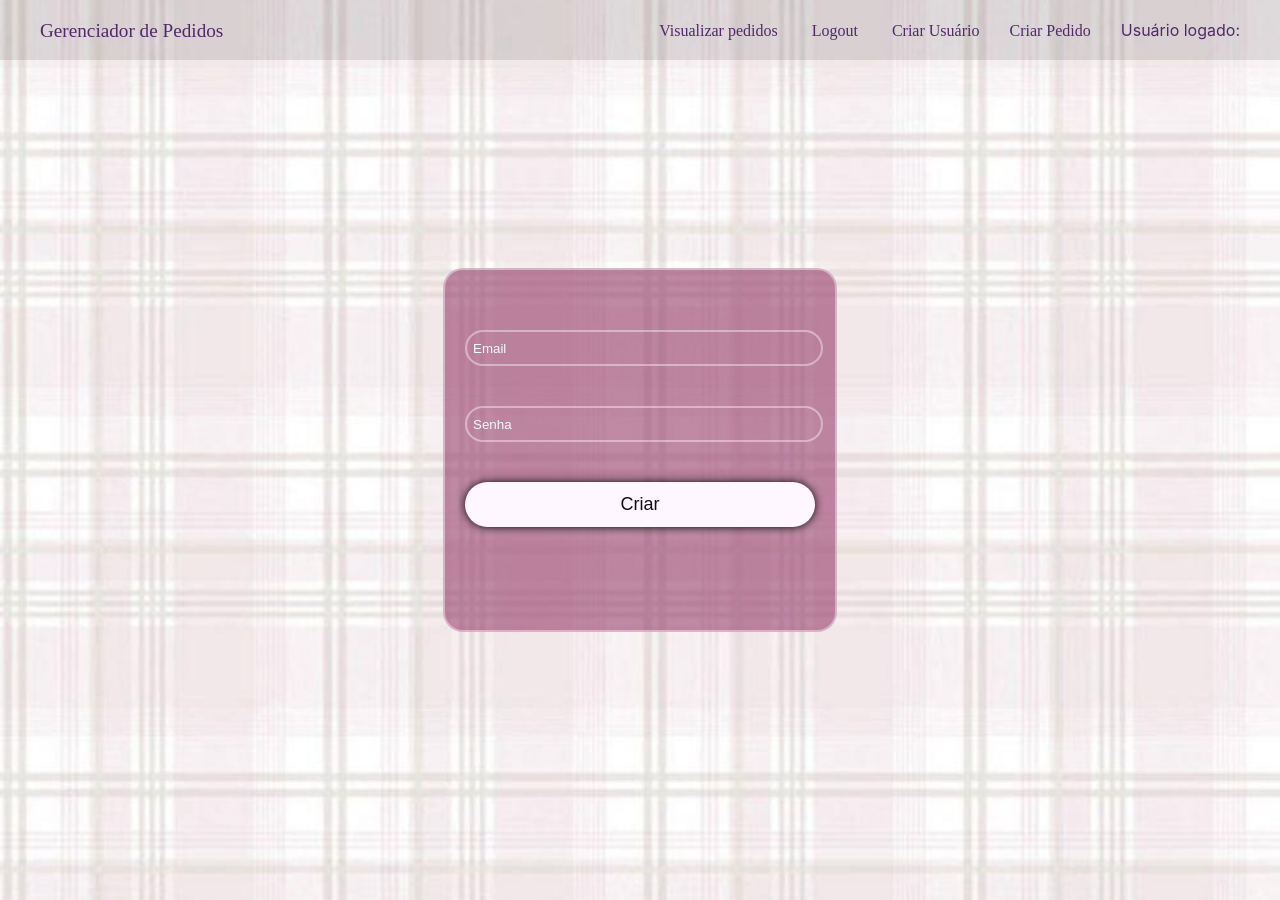
Test: LoginFormRendering › Testa a submissão do formulário com resposta de erro
This screenshot has width=1280, height=900.
In the field with placeholder "Email": (644, 348) x1=465 y1=330 x2=823 y2=366, type "erro@erro.com"
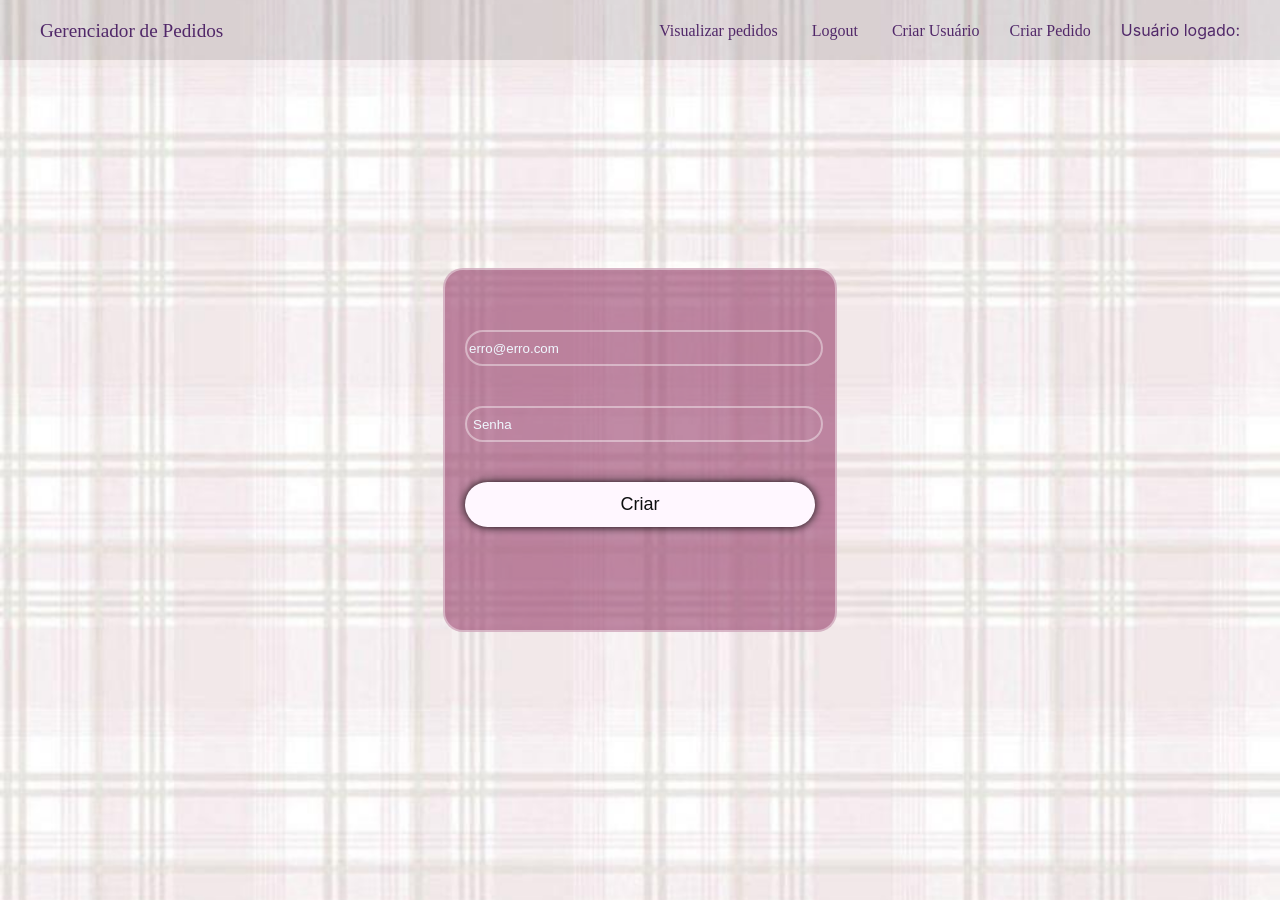
In the field with placeholder "Senha": (644, 424) x1=465 y1=406 x2=823 y2=442, type "password"
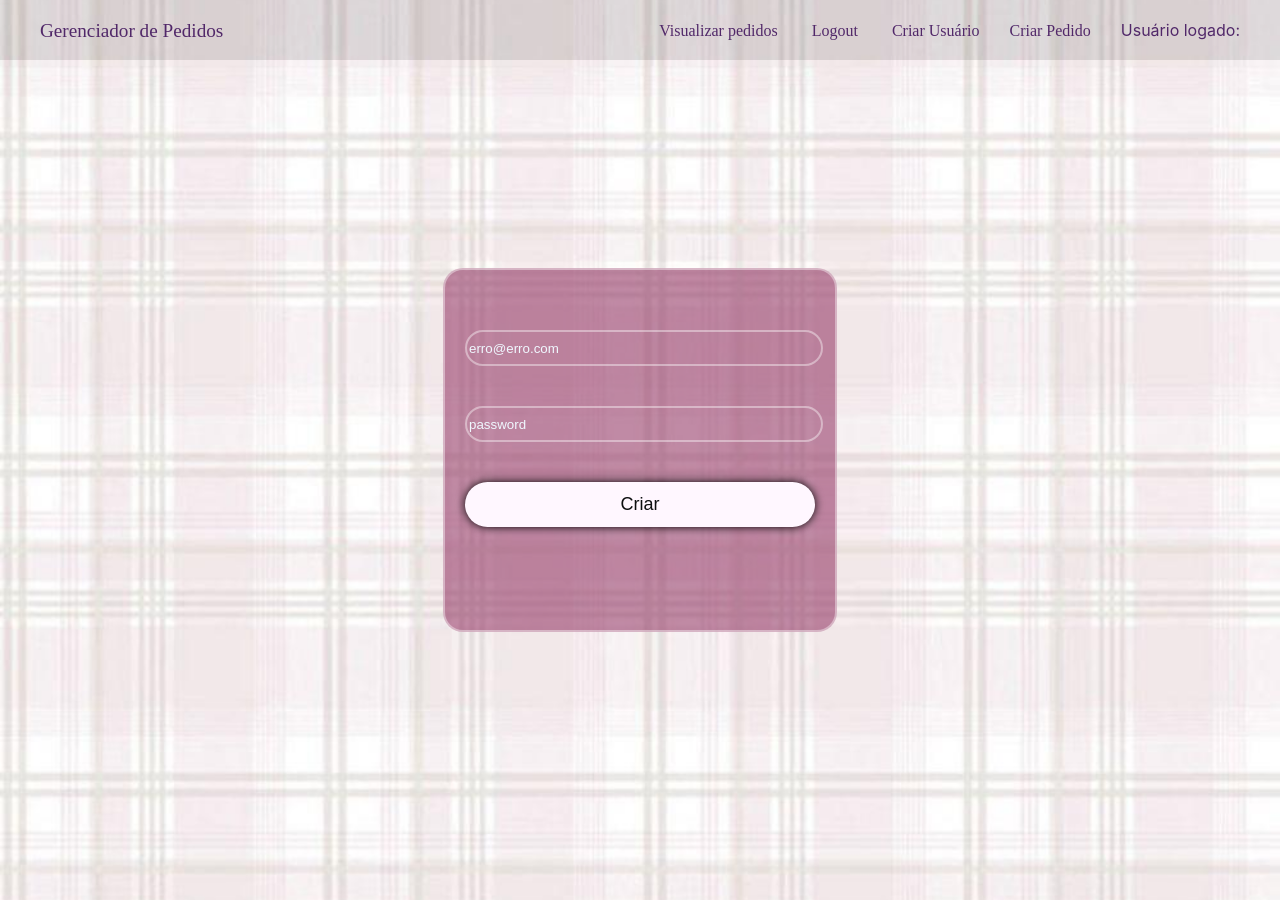
Click the button "Criar": (640, 504) x1=465 y1=482 x2=815 y2=527
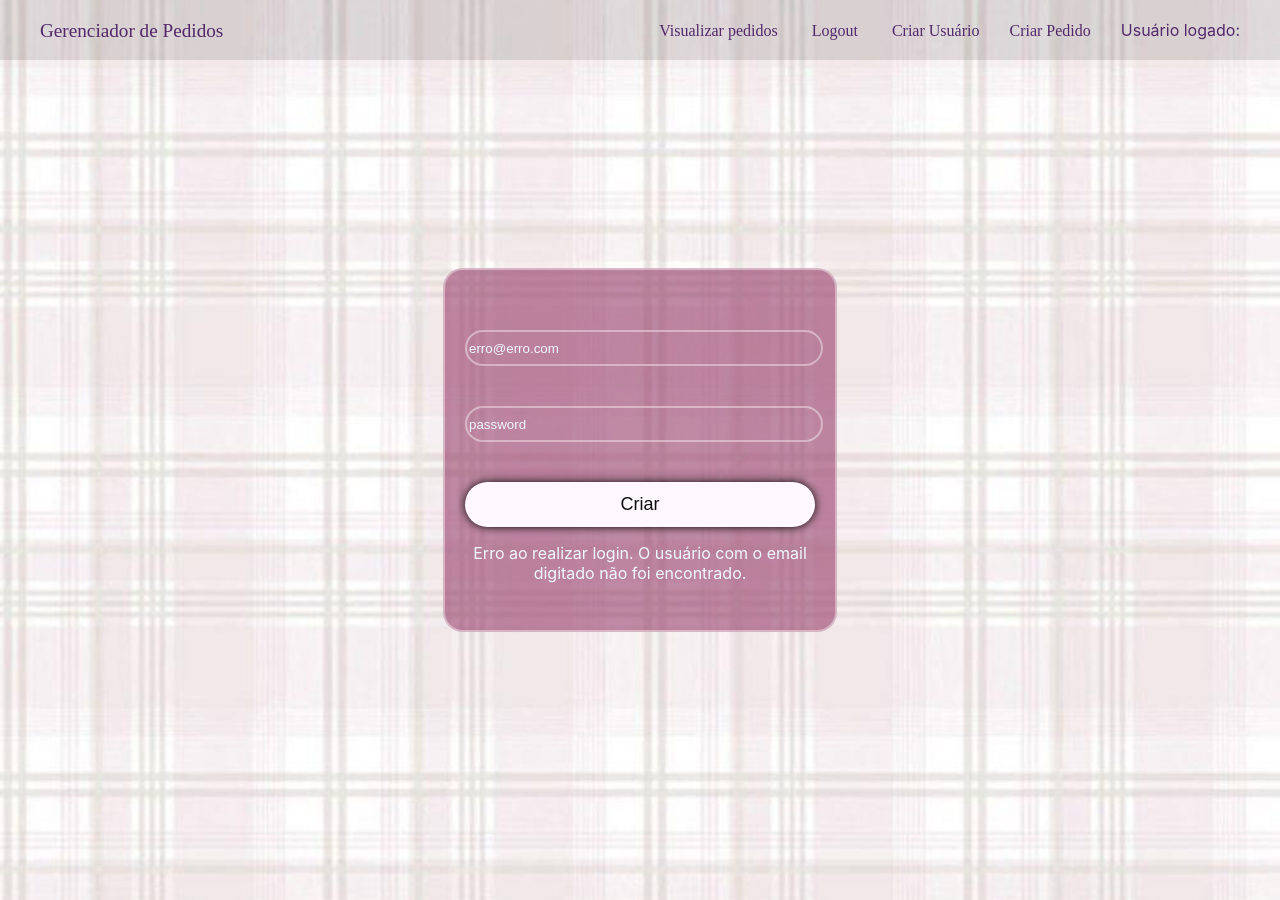
Expected: the text "Erro ao realizar login. O usuário com o email digitado não foi encontrado." is shown, x1=465 y1=543 x2=815 y2=583
